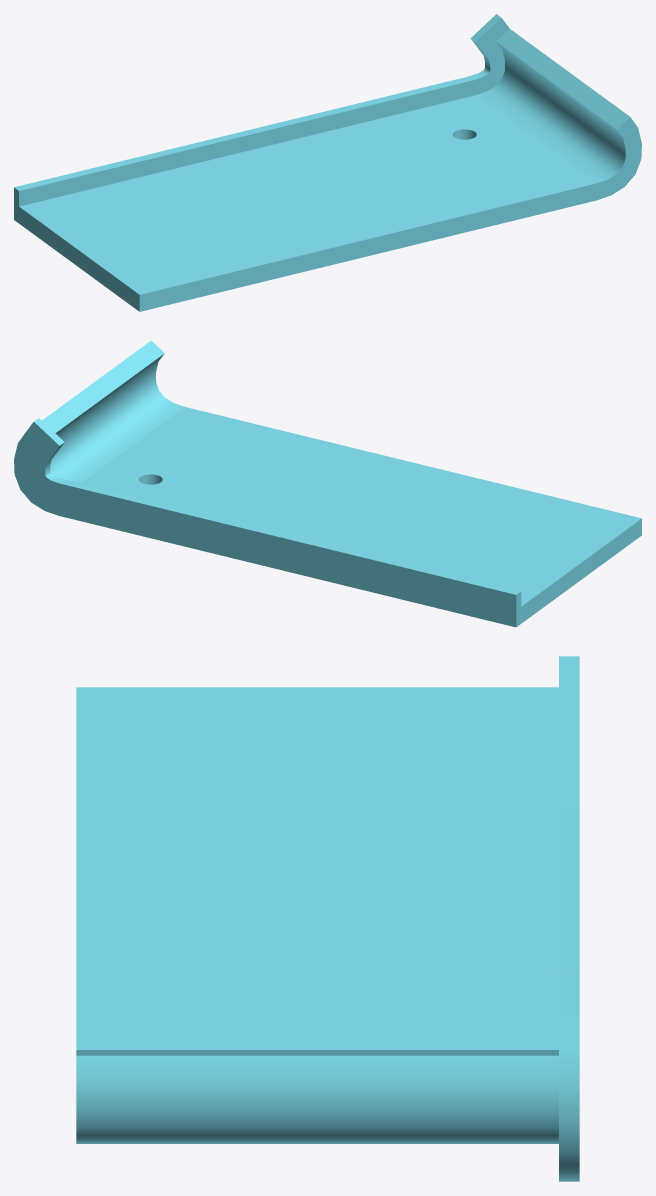
The model's file is Ground_03.fbx.
The picture shows the model from 3 angles, top to bottom: view 1: azimuth 30°, elevation 25°; view 2: azimuth 150°, elevation 25°; view 3: azimuth 270°, elevation 25°; orthographic projection. The views are drawn at different scales.
Parts seen in each view (by area): view 1: Ground_03; view 2: Ground_03; view 3: Ground_03.
Boxes of the visible parts, left/top/right/bottom form: Ground_03: left=14, top=14, right=641, bottom=311; Ground_03: left=14, top=340, right=641, bottom=627; Ground_03: left=76, top=656, right=579, bottom=1181.
Bounding box in the file's own units: 609 × 102 × 264.
